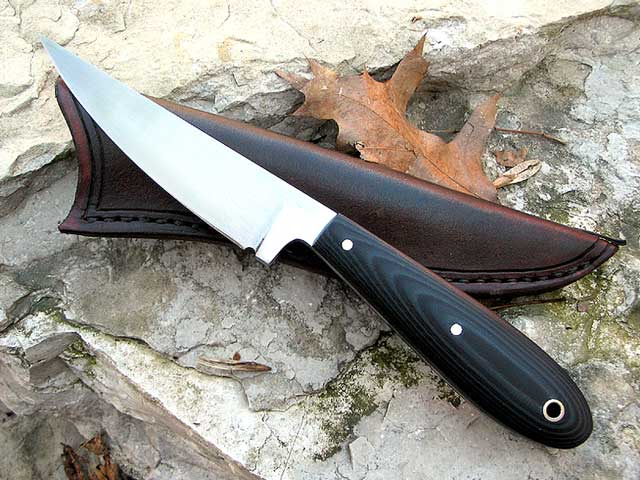knife: (35, 27, 603, 451)
